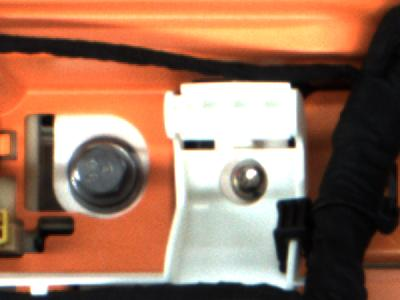nut_b: (57, 125, 153, 221)
